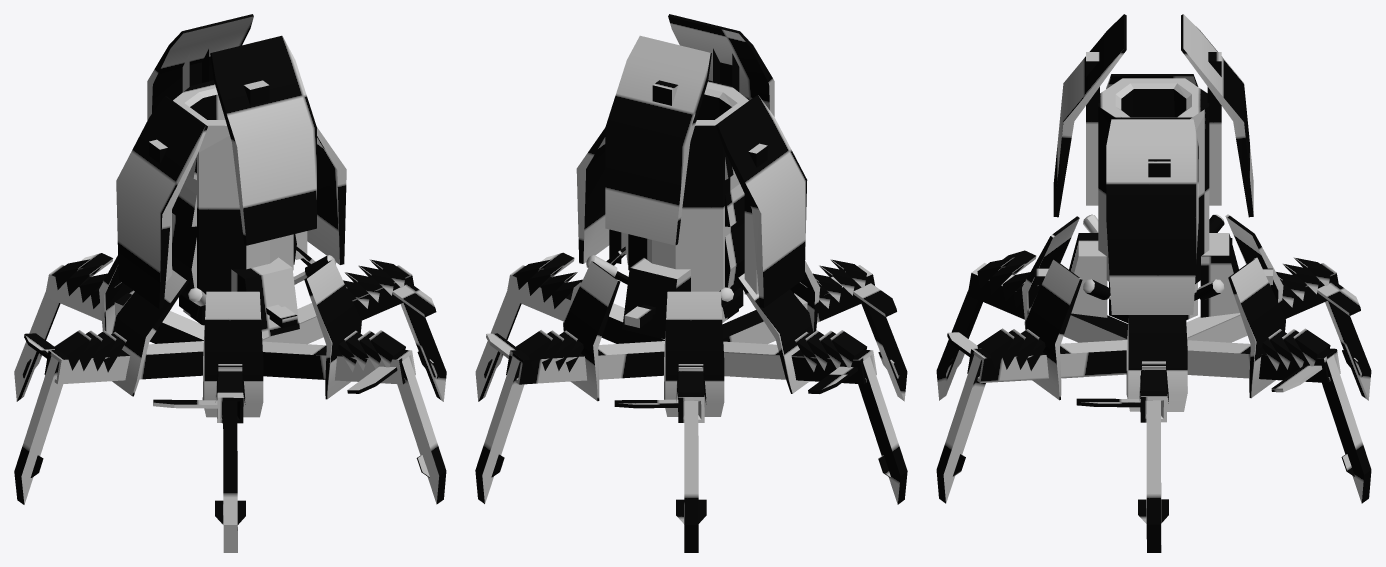
The model's file is mordon_boss.obj.
3 renders of one model, left to right at view 1: azimuth 30°, elevation 25°; view 2: azimuth 150°, elevation 25°; view 3: azimuth 270°, elevation 25°, orthographic.
Visible parts, largest first — view 1: mordon_boss; view 2: mordon_boss; view 3: mordon_boss.
Part boxes in pixels (x1,y1,x2,y2): mordon_boss: (14,14,446,552); mordon_boss: (475,14,907,552); mordon_boss: (936,14,1371,552).
Size of the model in its own units: 89.72 by 84.18 by 79.02.
1 material, 1 textured.
